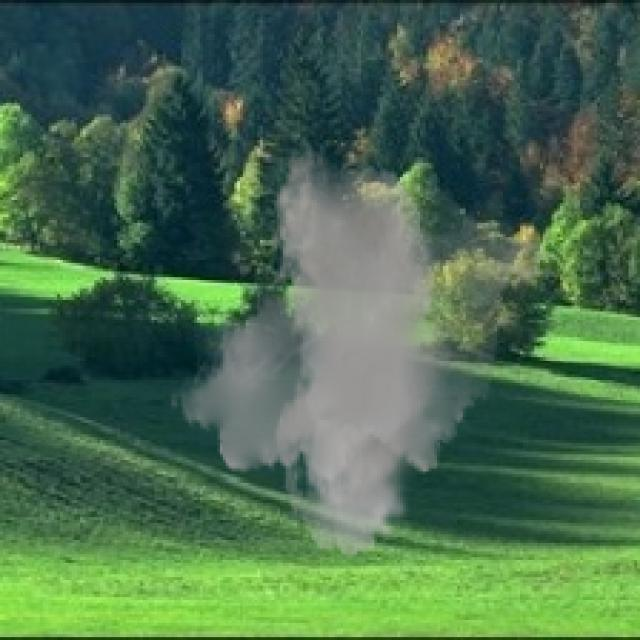smoke: (169, 149, 560, 557)
